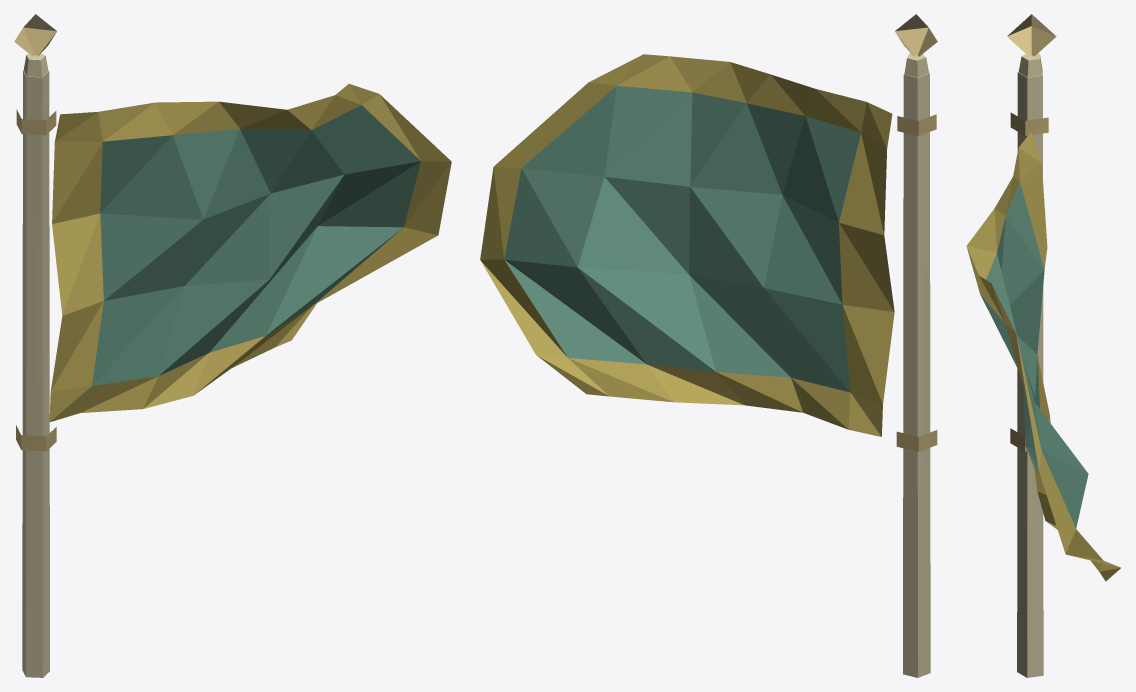
File: flag.roundFly.cuiqi__pole.stick.mugun__masthead.glb
3 views of the same model, side by side, from view 1: azimuth 30°, elevation 25°; view 2: azimuth 150°, elevation 25°; view 3: azimuth 270°, elevation 25° (orthographic).
Visible parts, largest first — view 1: flag.roundFly.cuiqi; view 2: flag.roundFly.cuiqi; view 3: flag.roundFly.cuiqi.
Part boxes in pixels (box(x1,y1,x2,y2)): flag.roundFly.cuiqi: box(14, 14, 451, 677); flag.roundFly.cuiqi: box(480, 14, 937, 677); flag.roundFly.cuiqi: box(966, 14, 1120, 677).
Size of the model in its own units: 1.46 by 2.08 by 0.4452.
